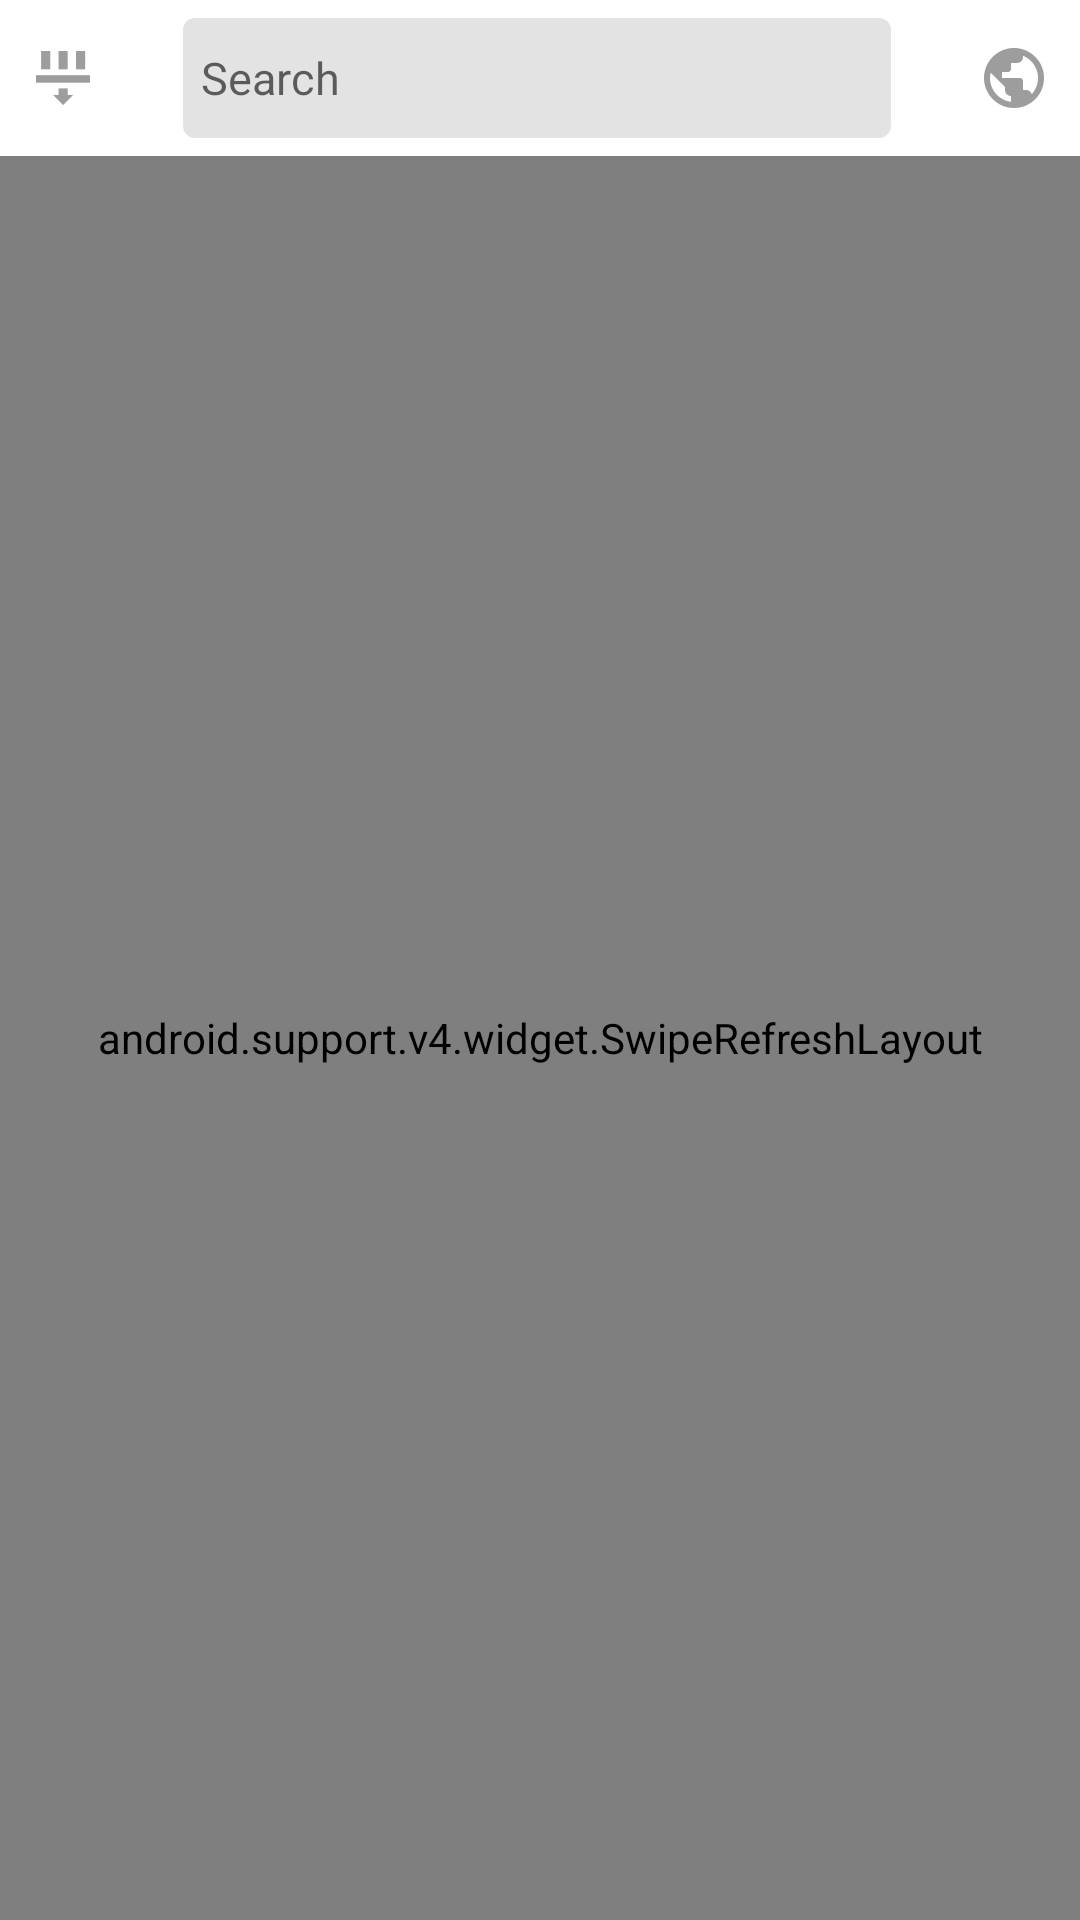

Named icons in this screenshot (1080w x 1920h) and their bounding boxes, (x1, y1, x2, y2):
Filter by region switch option: (984, 48, 1044, 108)
Filters switch option: (36, 51, 90, 105)
